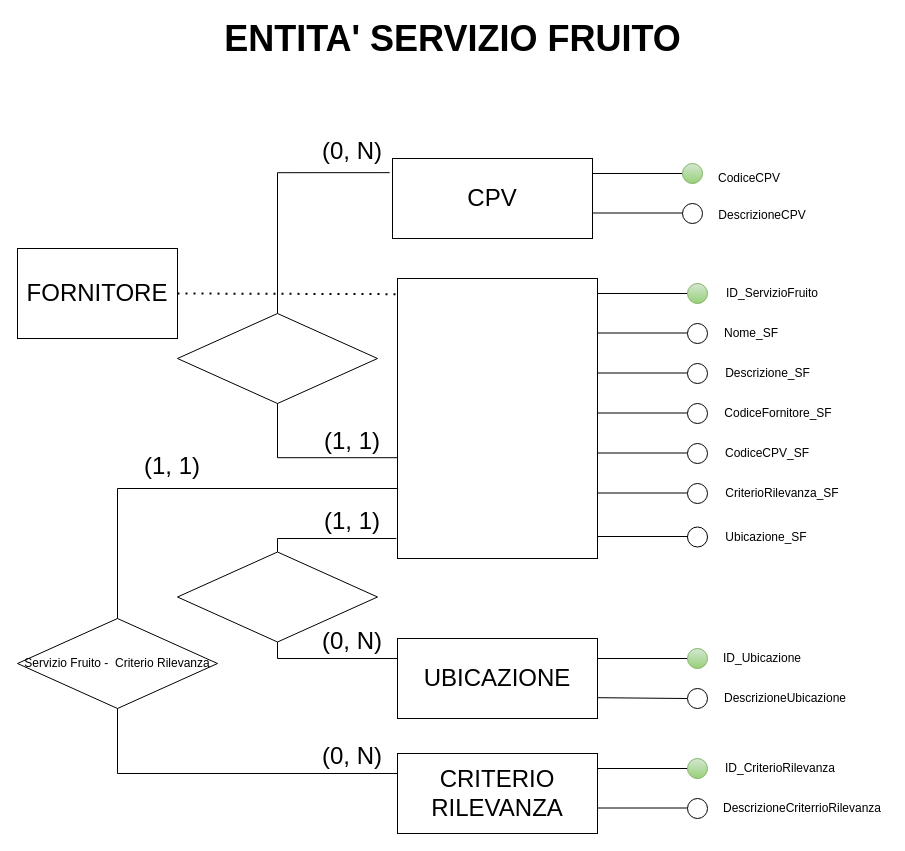
Some shapes in this 905 by 851 pixel diagram are drawn without their labels. The box of each missing label's shape, as (x1, y1, x2, y2) in pixels:
SERVIZIO FRUITO: (396, 278, 598, 558)
Servizio Fruito - CPV: (176, 312, 378, 404)
Servizio Fruito - Ubicazione: (176, 551, 378, 642)
